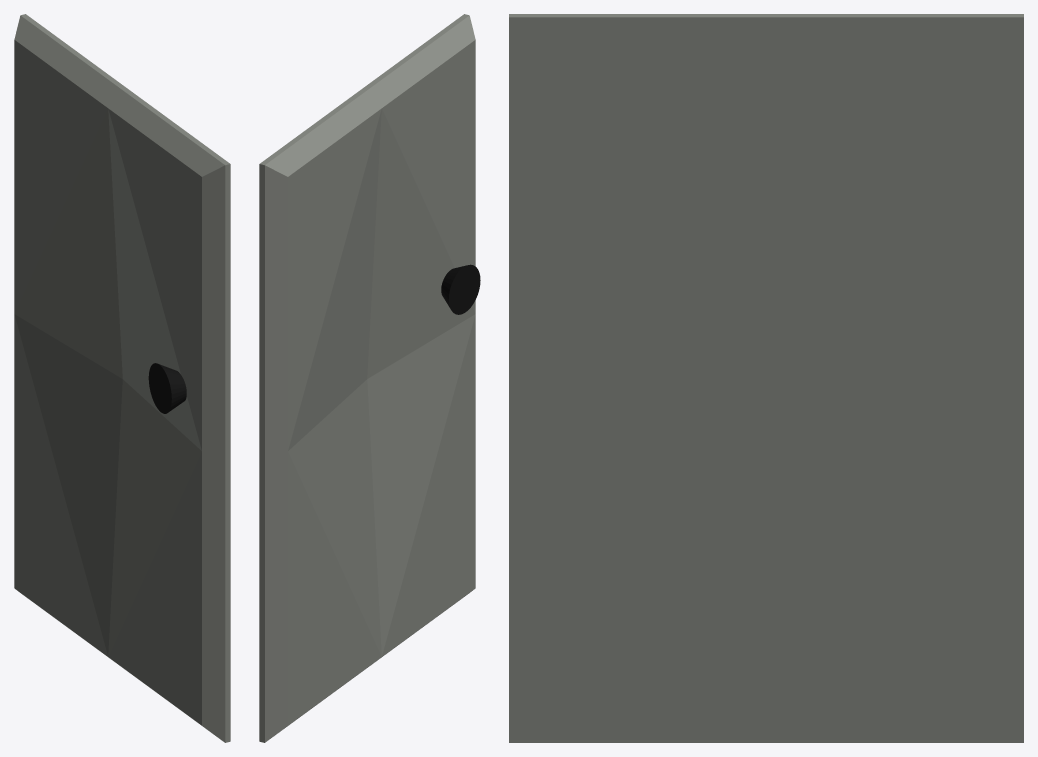
File: mesa_centro_puerta2.obj
3 views of the same model, side by side, from view 1: azimuth 30°, elevation 25°; view 2: azimuth 150°, elevation 25°; view 3: azimuth 270°, elevation 25° (orthographic). The views are drawn at different scales.
Parts seen in each view (by area): view 1: Cubo.026_Cubo.007; view 2: Cubo.026_Cubo.007; view 3: Cubo.026_Cubo.007.
Part boxes in pixels (x1=…): Cubo.026_Cubo.007: x1=14, y1=14, x2=230, y2=742; Cubo.026_Cubo.007: x1=259, y1=14, x2=480, y2=742; Cubo.026_Cubo.007: x1=509, y1=14, x2=1023, y2=742.
Size of the model in its own units: 0.0699 by 1.03 by 0.6624.
